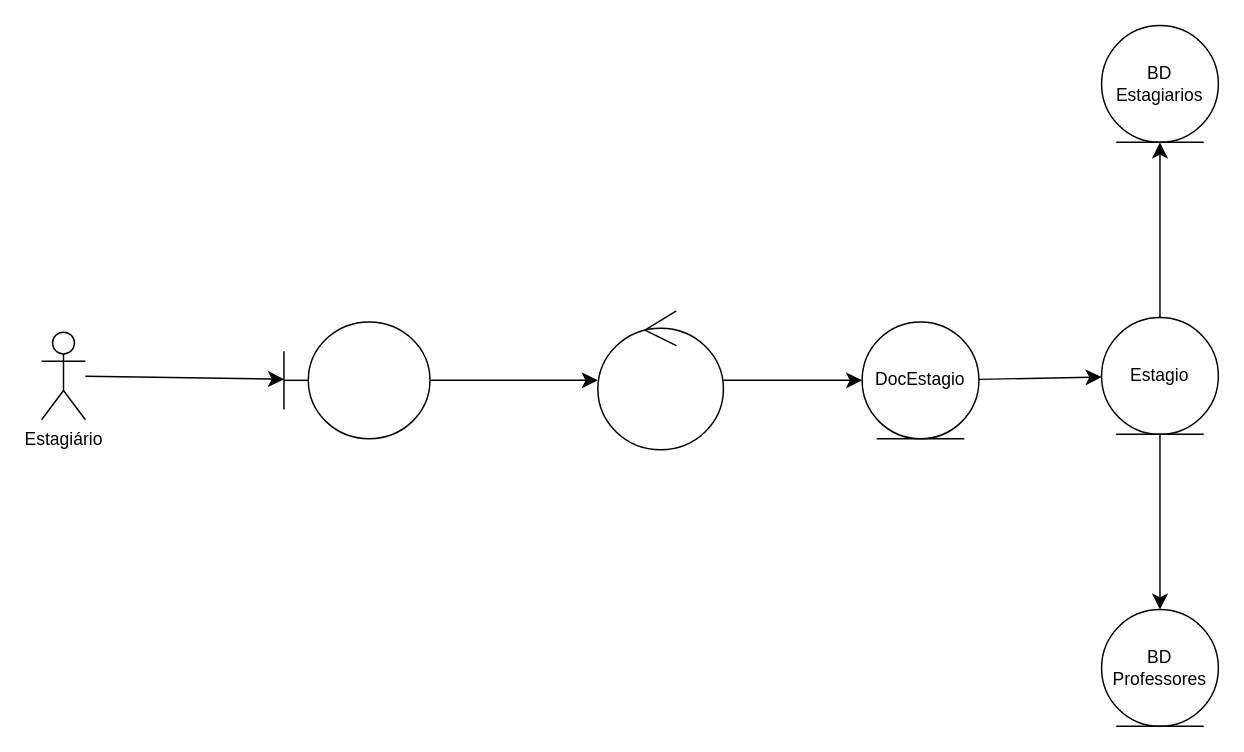
Some shapes in this 1244 by 752 pixel diagram are drawn without their labels. The centre of each missing label's shape, as x and y in pixels:
"Controlador Envio DocEstagio" goes at point (659, 380).
"Tela Envio DocEstagio" goes at point (356, 379).
